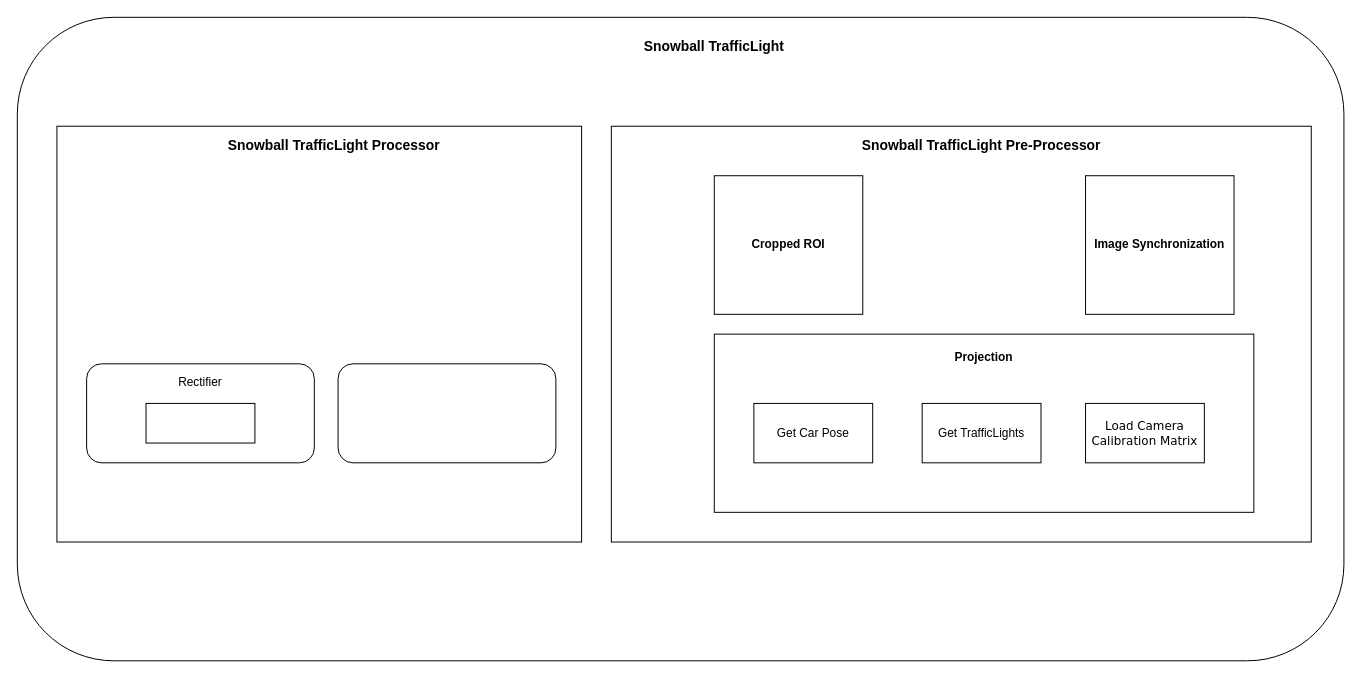
This 1361x678 diagram has some shape labels left out. Each missing label, with the centre of its shape:
"Recognizer" goes at (x=446, y=413).
"select" goes at (x=200, y=422).
